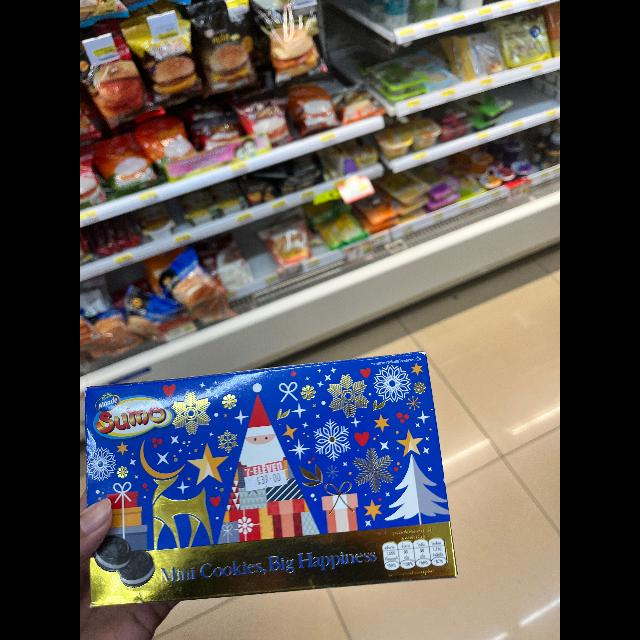cardboard_box: (80, 334, 448, 618)
